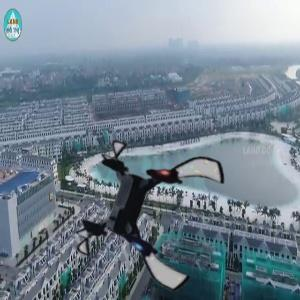drone: (82, 139, 224, 281)
